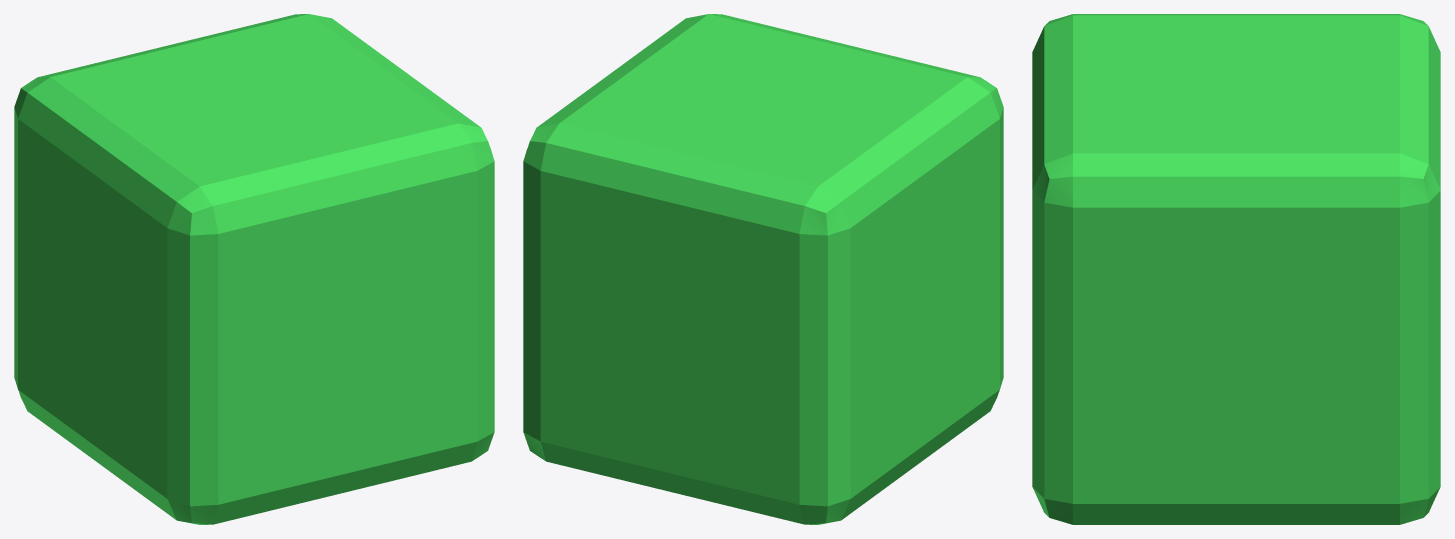
The model's file is green-block.glb.
3 views of the same model, side by side, from view 1: azimuth 30°, elevation 25°; view 2: azimuth 150°, elevation 25°; view 3: azimuth 270°, elevation 25° (orthographic). The views are drawn at different scales.
Visible parts, largest first — view 1: Cube.005; view 2: Cube.005; view 3: Cube.005.
Part boxes in pixels (left/top/right/bottom): Cube.005: left=14, top=14, right=494, bottom=524; Cube.005: left=523, top=14, right=1003, bottom=524; Cube.005: left=1032, top=14, right=1440, bottom=524.
Size of the model in its own units: 1 by 1 by 1.
